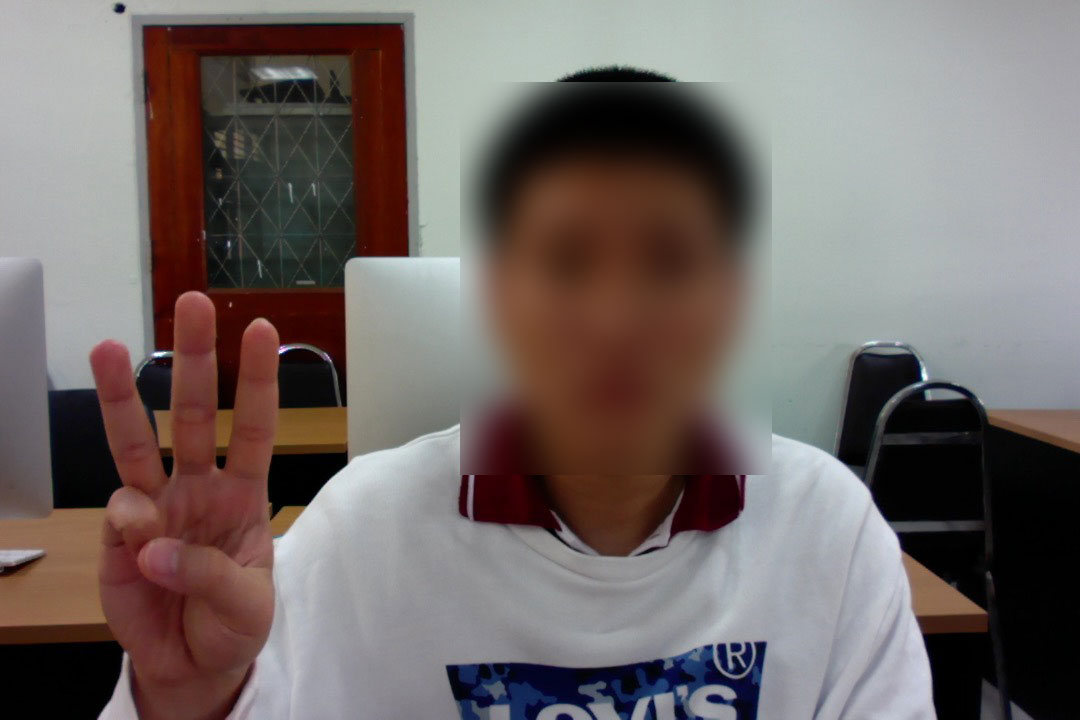wor: (72, 292, 297, 689)
